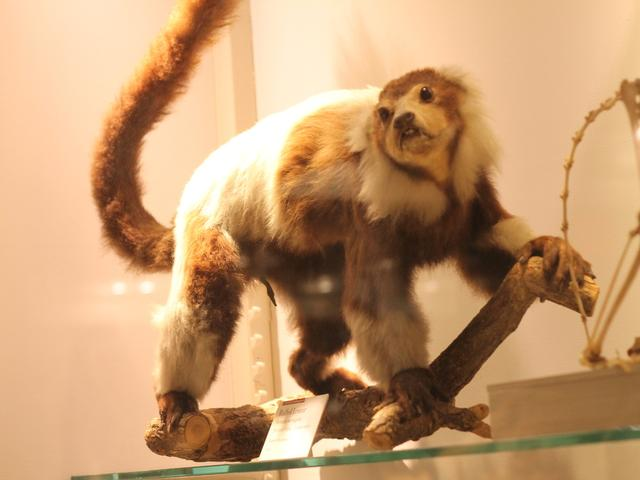monkey: (107, 38, 561, 458)
